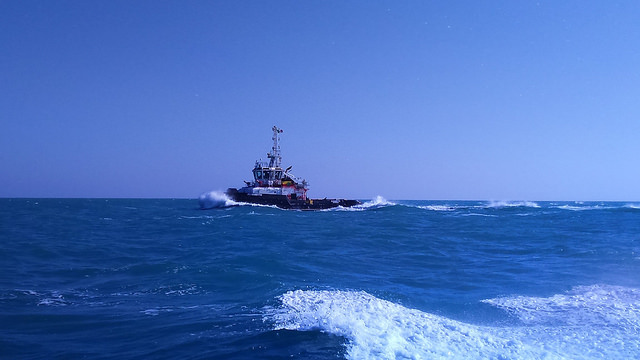tug_boat: (224, 124, 381, 216)
